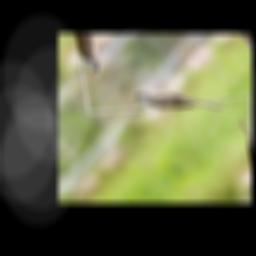Cuckoo: (126, 64, 225, 146)
